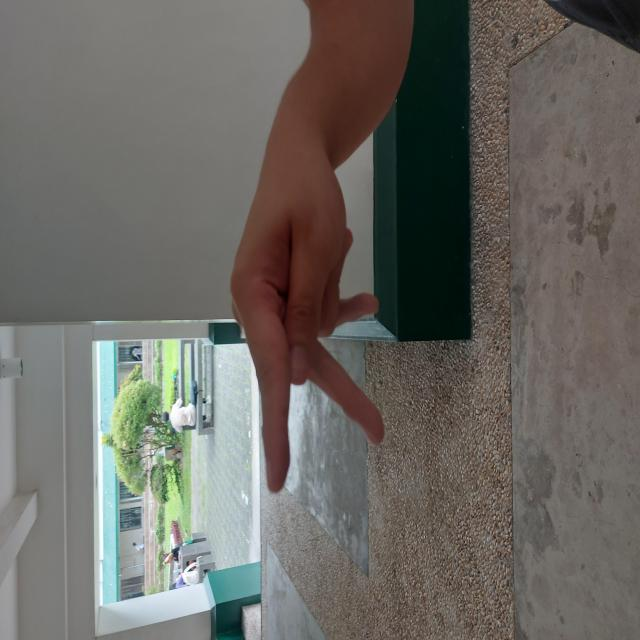P: (142, 228, 489, 388)
